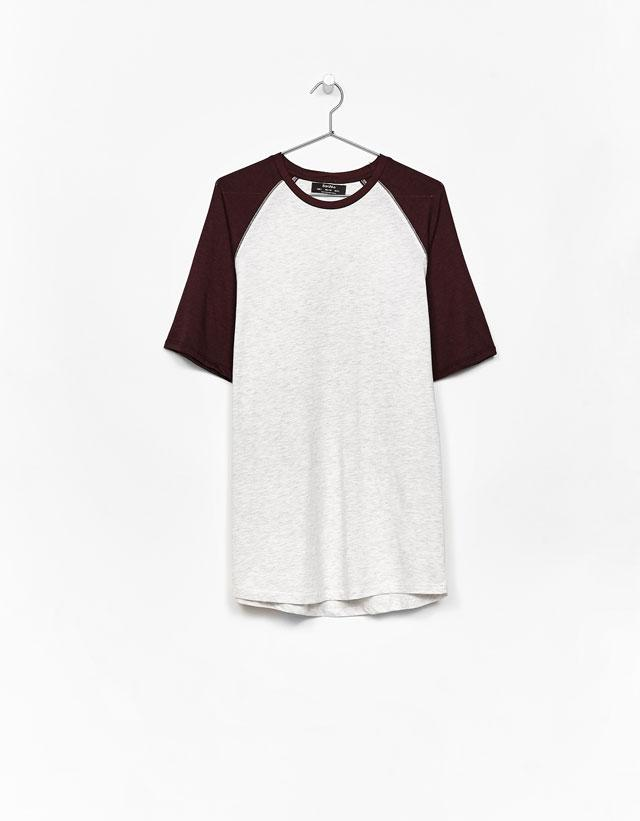teeshirt: (8, 8, 632, 813)
